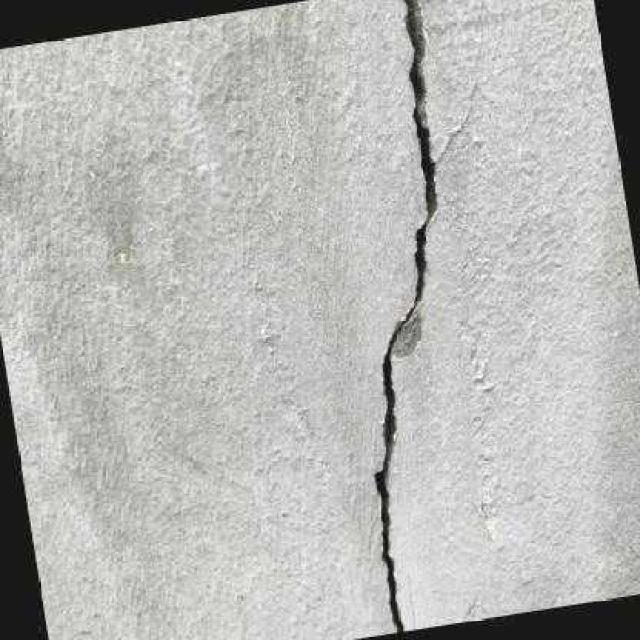D00: (368, 0, 442, 633)
